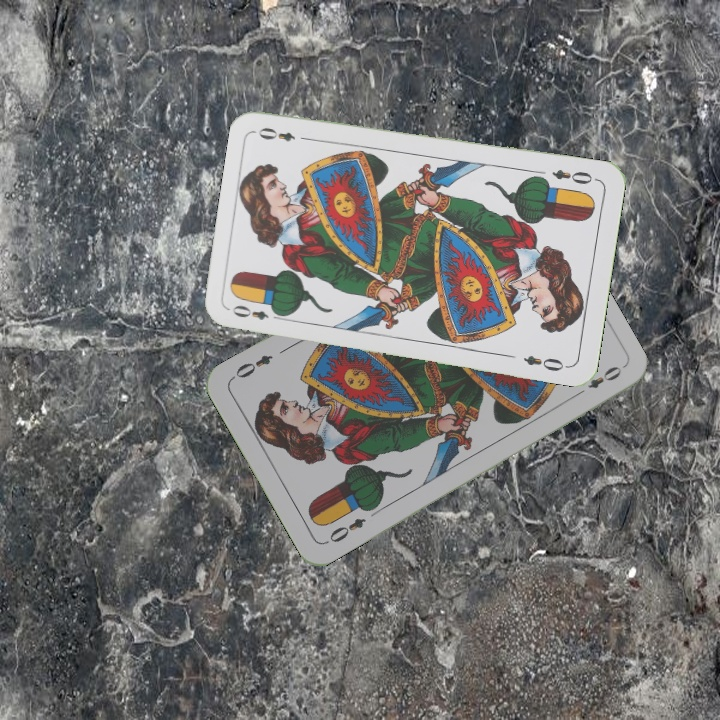EO: (321, 514, 369, 547), (228, 301, 286, 323), (548, 165, 595, 187)
